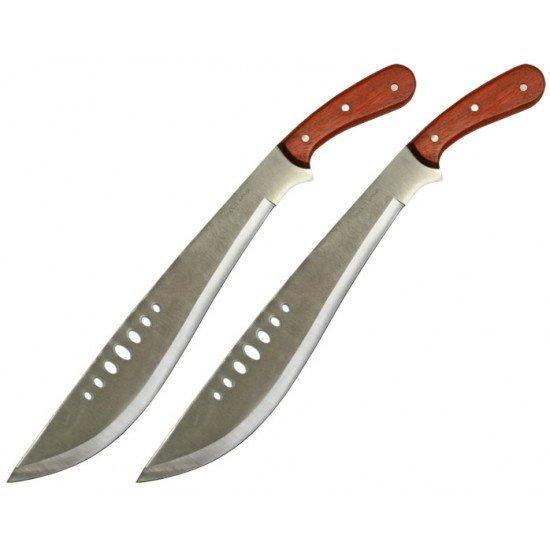facao: (138, 64, 545, 481), (9, 64, 415, 481)
